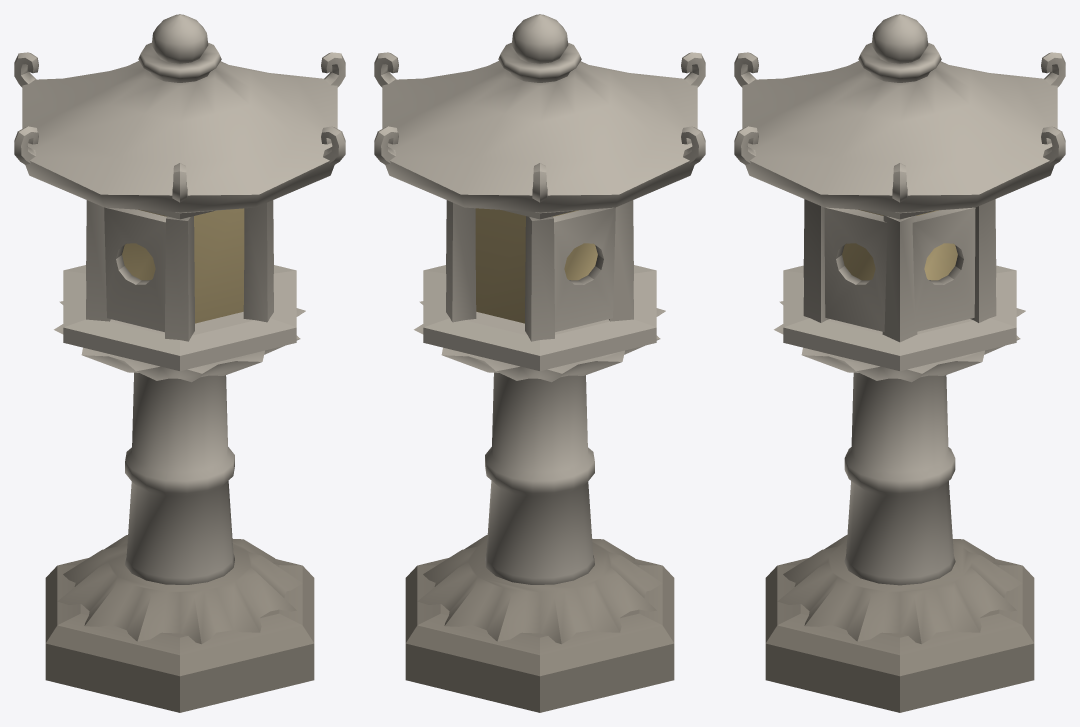
File: lantern.glb
3 renders of one model, left to right at view 1: azimuth 30°, elevation 25°; view 2: azimuth 150°, elevation 25°; view 3: azimuth 270°, elevation 25°, orthographic.
Visible parts, largest first — view 1: lantern; view 2: lantern; view 3: lantern.
Boxes of the visible parts, box(x1,y1,x2,y2) form: lantern: box(14, 14, 345, 712); lantern: box(374, 14, 705, 712); lantern: box(734, 14, 1065, 712).
Size of the model in its own units: 0.5669 by 1.03 by 0.4915.
